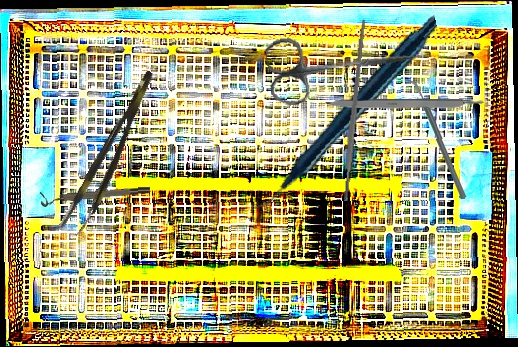Chopper: (404, 78, 469, 200)
Fixation Ring: (40, 184, 151, 208)
Handpiece: (221, 15, 465, 210)
Iris Scissors: (263, 19, 422, 110)
Scalpel Handle: (340, 19, 368, 201), (324, 99, 486, 110)
Tissue Forceps: (58, 68, 168, 239)
